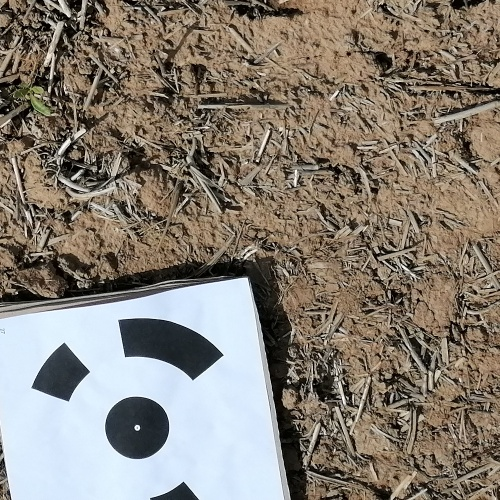beet: (15, 79, 51, 118)
